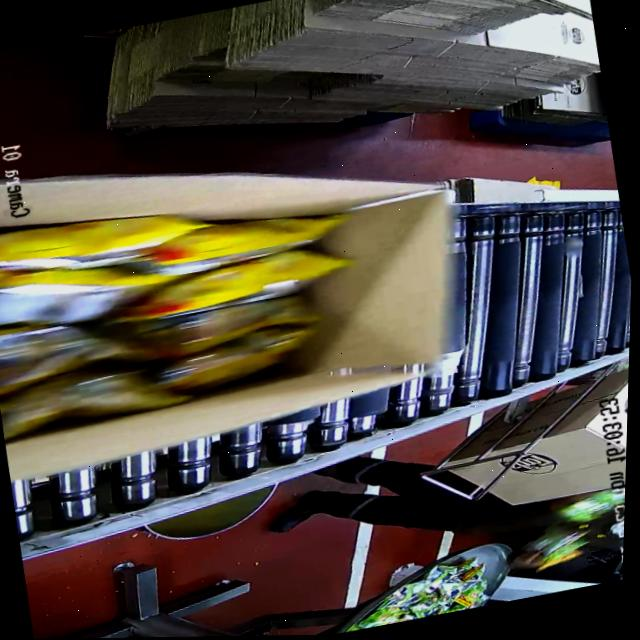SALTED: (0, 175, 357, 438)
